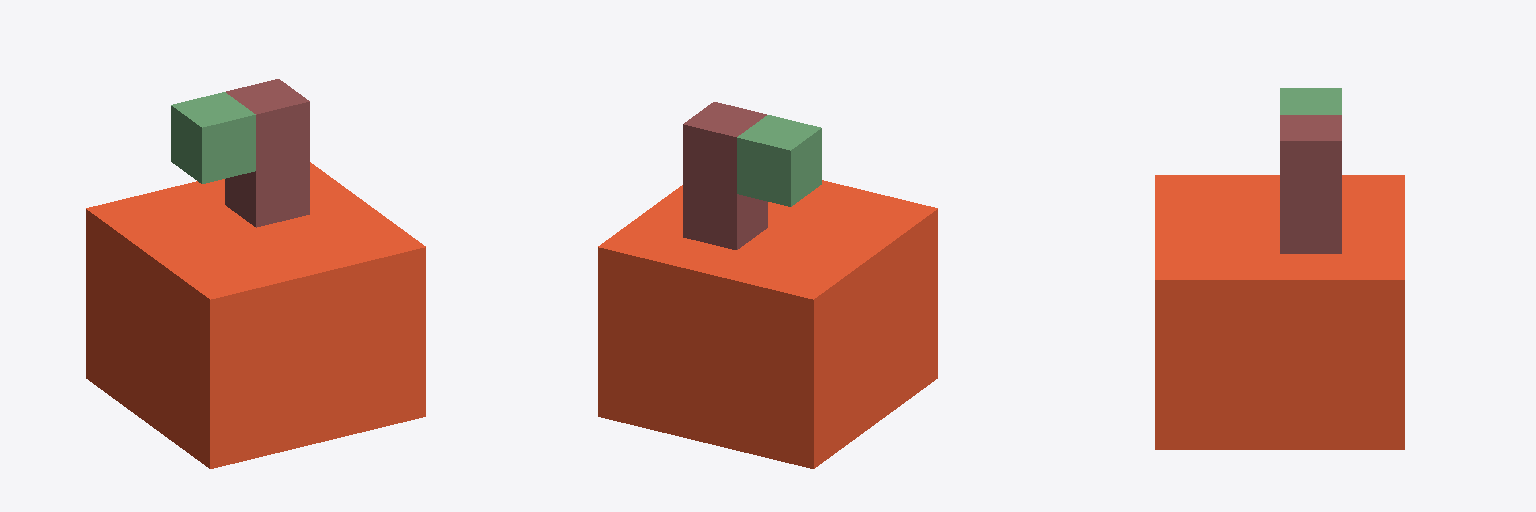
The picture shows the model from 3 angles: view 1: azimuth 30°, elevation 25°; view 2: azimuth 150°, elevation 25°; view 3: azimuth 270°, elevation 25°; orthographic projection.
Visible parts, largest first — view 1: object 1; view 2: object 1; view 3: object 1.
Part boxes in pixels (left/top/right/bottom): object 1: left=86, top=79, right=425, bottom=468; object 1: left=598, top=102, right=937, bottom=468; object 1: left=1155, top=88, right=1404, bottom=449.
Bounding box in the file's own units: 0.4 × 0.5 × 0.4.
1 materials, 1 textured.